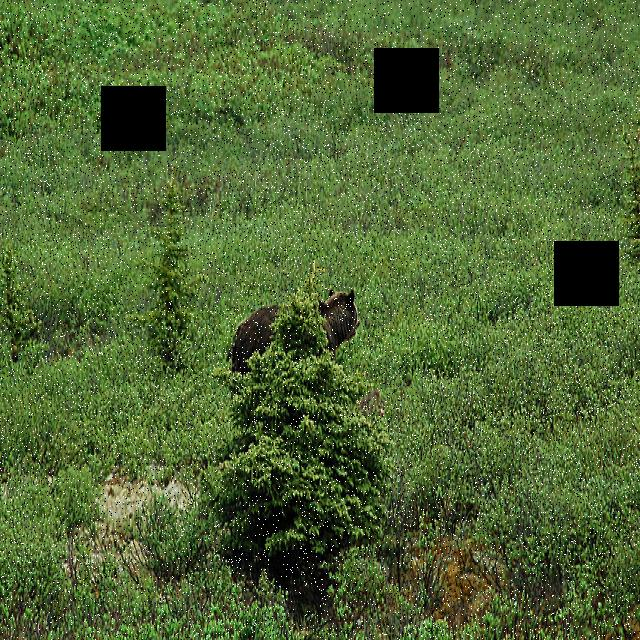Bear: (230, 281, 363, 363)
